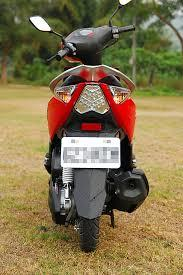motorcycle: (23, 7, 153, 251)
